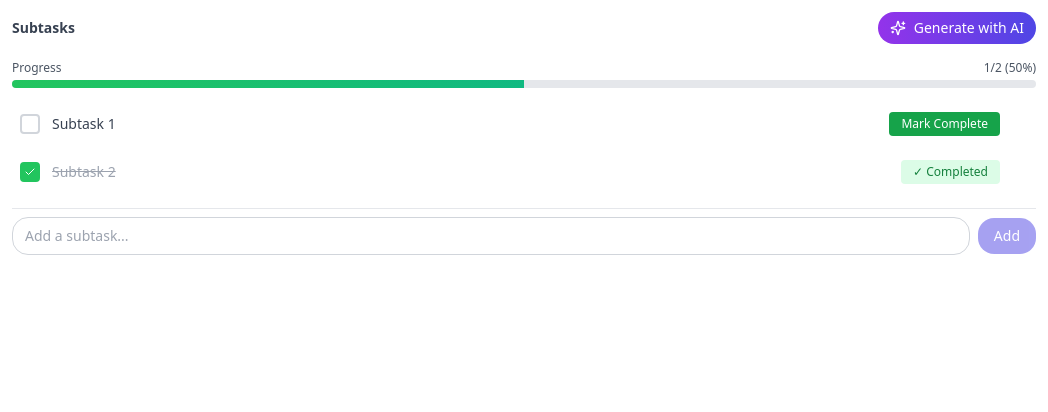
SubtaskList › generates subtasks with AI
Click the button "Generate with AI": (957, 28) top-left (878, 12), bottom-right (1036, 44)
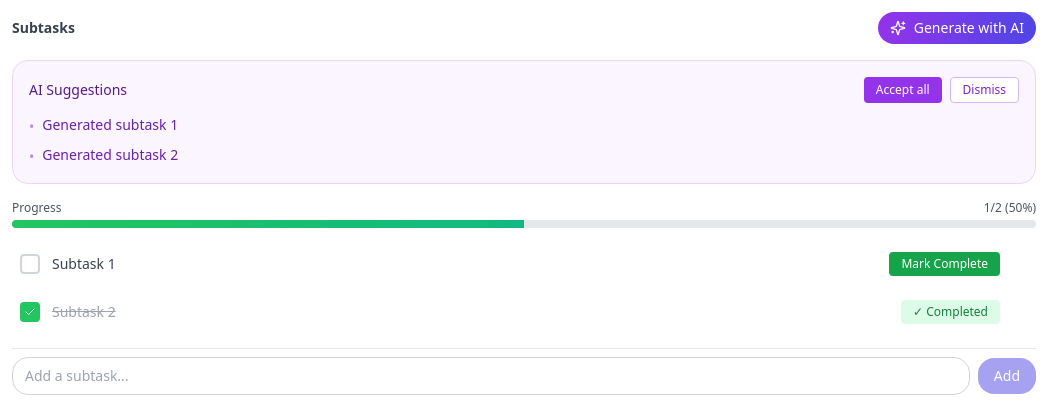
expect the heading "AI Suggestions" is shown: met, box top-left (29, 80), bottom-right (127, 100)
expect the text "Generated subtask 1" is shown: met, box top-left (42, 115), bottom-right (178, 135)
expect the text "Generated subtask 2" is shown: met, box top-left (42, 145), bottom-right (178, 165)
